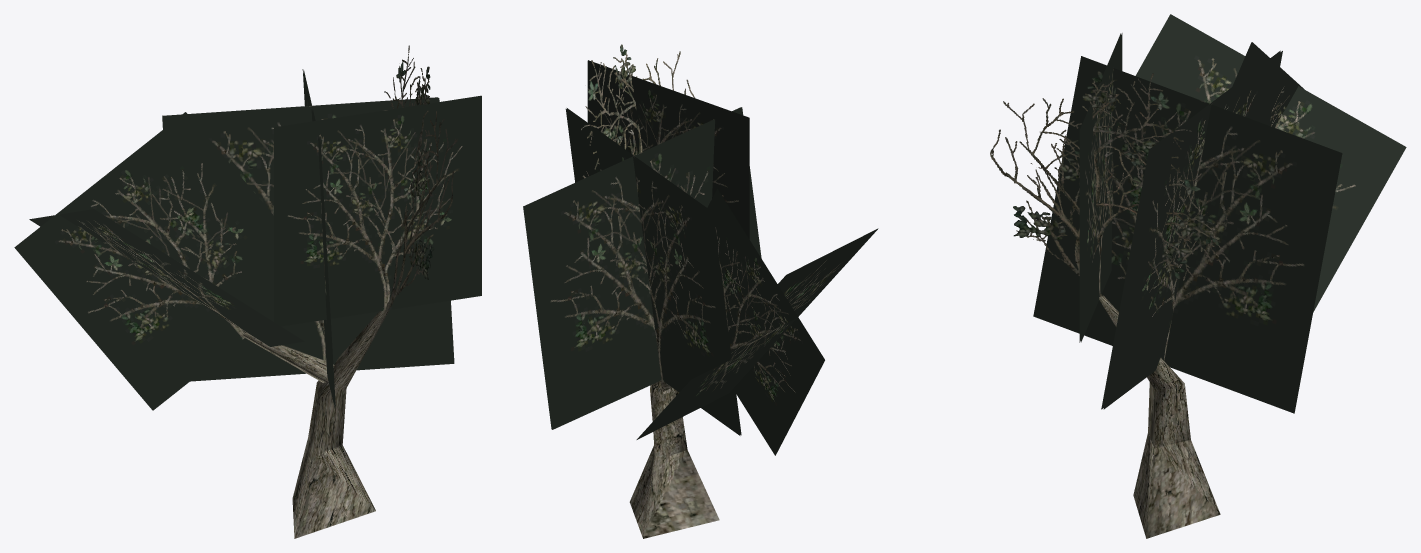
File: mtns_shrb_gnarled_a3_l1.fbx
3 renders of one model, left to right at view 1: azimuth 30°, elevation 25°; view 2: azimuth 150°, elevation 25°; view 3: azimuth 270°, elevation 25°, orthographic. The views are drawn at different scales.
Parts seen in each view (by area): view 1: mesh_node; view 2: mesh_node; view 3: mesh_node.
Boxes of the visible parts, x1,y1,x2,y2 form: mesh_node: (14, 45, 481, 538); mesh_node: (523, 44, 878, 538); mesh_node: (990, 14, 1406, 538).
Bounding box in the file's own units: 0.8675 × 1.11 × 0.9839.
